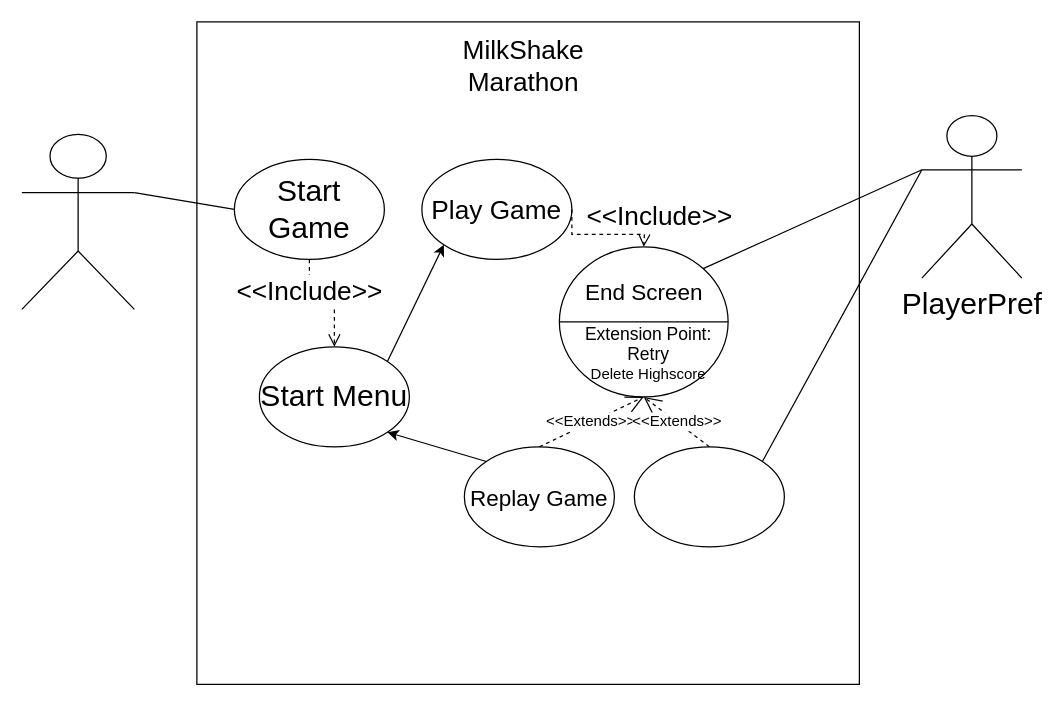
Image size: 1064x706. Some labels were removed from this diagram. The centre of each missing label's shape, as x and y in pixels:
"Delete Highscore" goes at point (708, 496).
"Player" goes at point (77, 221).
